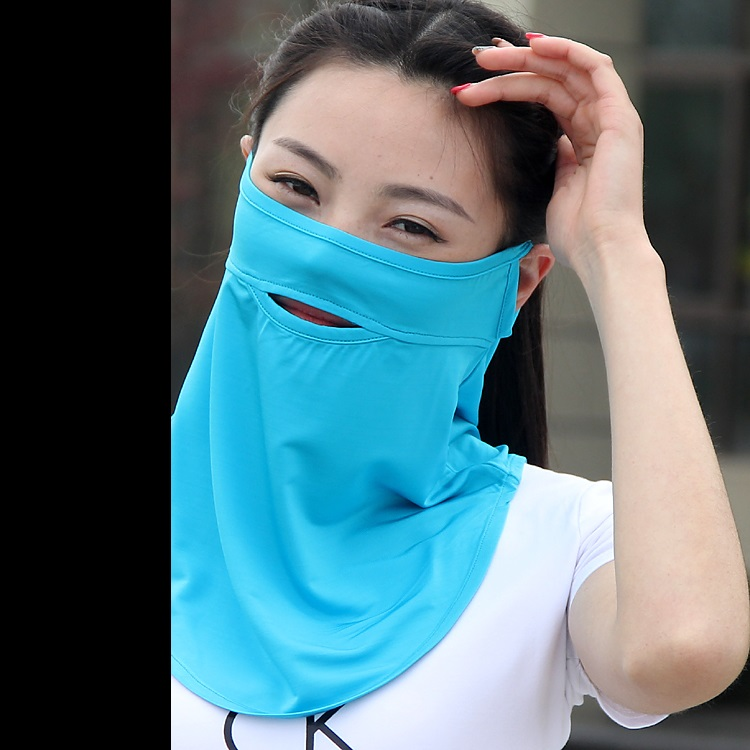face_mask: (231, 67, 496, 441)
